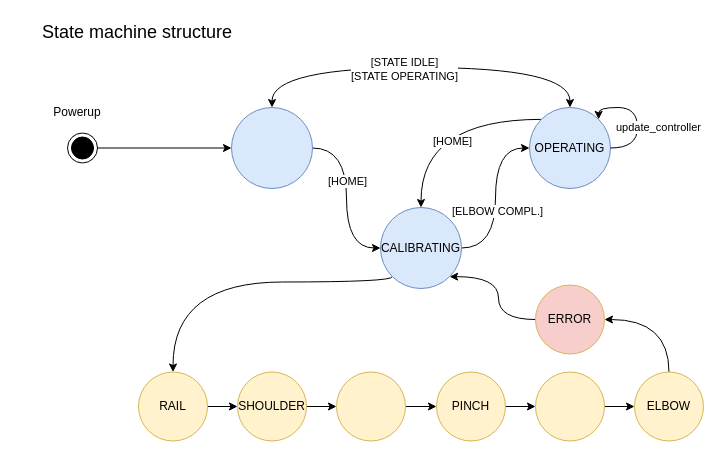
Image size: 721x458. Some labels were removed from this diagram. Here are the shapes that lost their labels. From the top down, the centre of each, then its label:
point 271,147: IDLE
point 371,406: TWIST
point 569,406: WRIST
